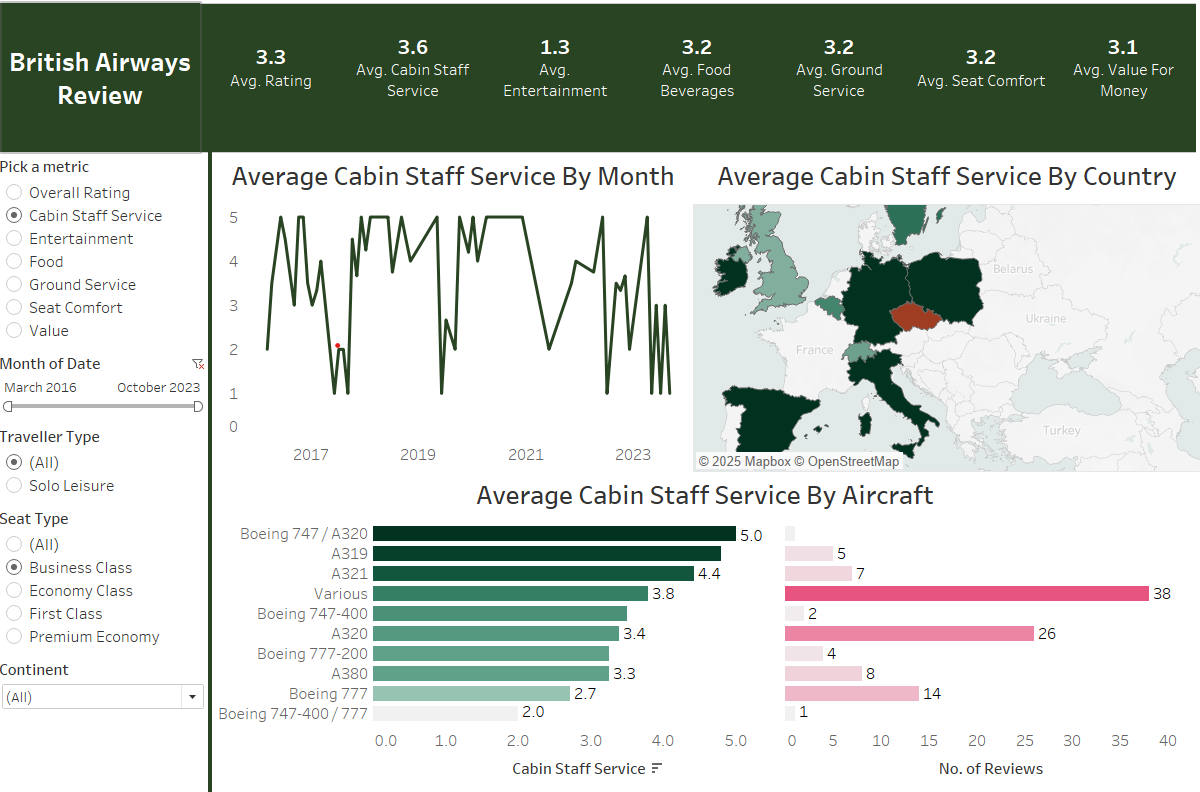

The dashboard page shown, as its layout file describes it:
{"tool":"tableau","page":{"name":"Dashboard 1","canvas":[1200,800],"ordinal":0},"visuals":[{"type":"text","box":[0,9.1,200,148.6]},{"type":"worksheet","title":"Summary","mark":"Automatic","box":[200,9.1,996,149.7]},{"type":"blank","box":[208,155,4,648]},{"type":"worksheet","title":"Month","mark":"Automatic","rows":["Calculation_1391049345540734976"],"cols":["date"],"box":[215,160,476,313]},{"type":"worksheet","title":"Map","mark":"Automatic","box":[693,160,508,318]},{"type":"worksheet","title":"Aircraft","mark":"Automatic","cols":["Calculation_1391049345540734976","ba_reviews.csv_4C9E56D509594A5FA470DF1F1F274233"],"box":[213,479,985,321]}]}

Visuals, with their boxes in screenshot pixels (x1, y1, x2, y2), scaled from the page's 1200x800 canvas onto the 1200x792 screenshot:
text: detection(0, 9, 200, 156)
"Summary" worksheet: detection(200, 9, 1196, 157)
blank: detection(208, 153, 212, 791)
"Month" worksheet: detection(215, 158, 691, 468)
"Map" worksheet: detection(693, 158, 1199, 473)
"Aircraft" worksheet: detection(213, 474, 1198, 791)
